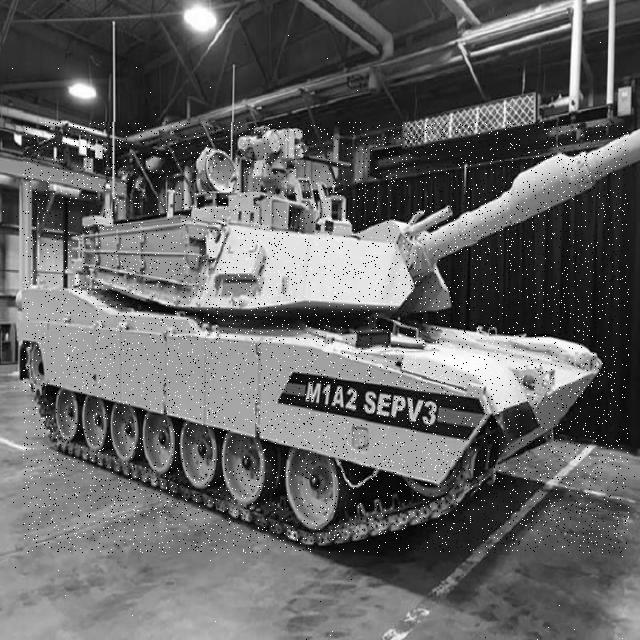MIL_MBT: (24, 122, 629, 553)
